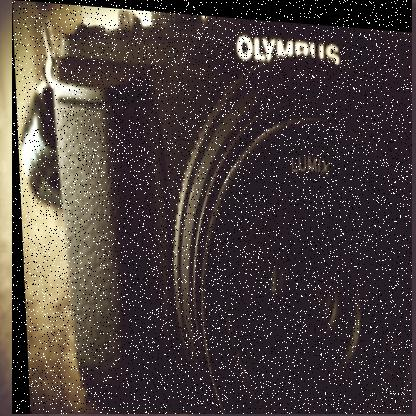Camera: (13, 1, 414, 416)
